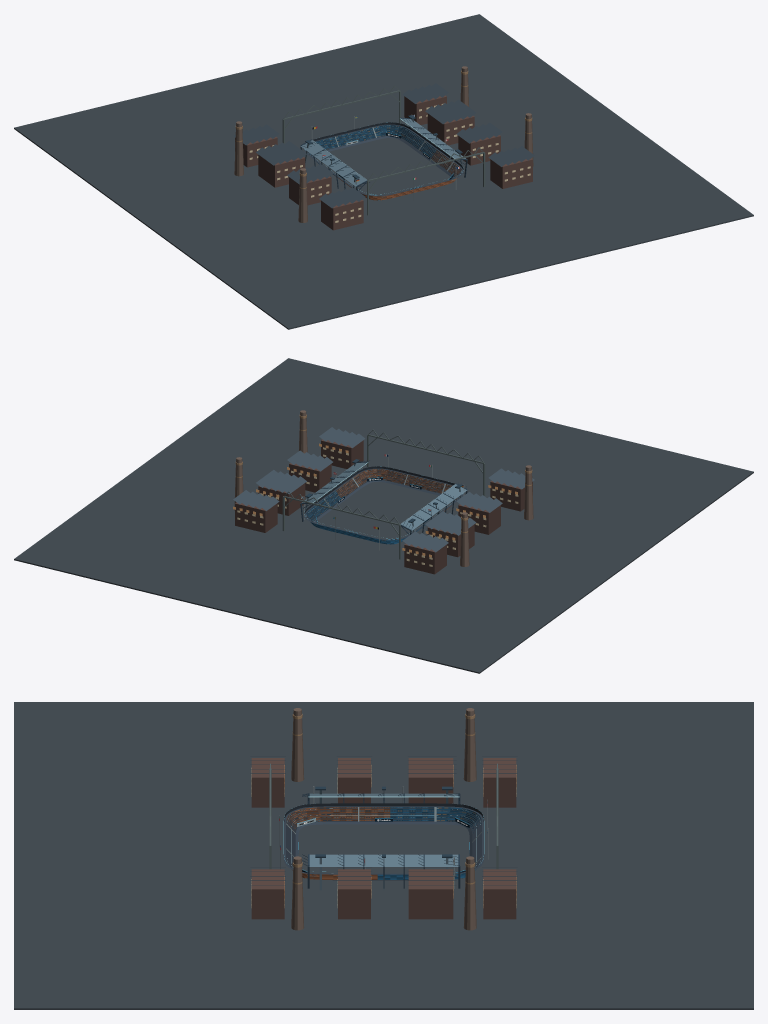
File: foundry-v2.glb
3 renders of one model, top to bottom at view 1: azimuth 30°, elevation 25°; view 2: azimuth 150°, elevation 25°; view 3: azimuth 270°, elevation 25°, orthographic. The views are drawn at different scales.
Parts seen in each view (by area): view 1: Arena architecture / foundry, Arena lettering and light ribbons / foundry; view 2: Arena architecture / foundry, Arena lettering and light ribbons / foundry; view 3: Arena architecture / foundry, Arena lettering and light ribbons / foundry.
Part boxes in pixels (box(x1,y1,x2,y2)): Arena architecture / foundry: box(14, 14, 753, 329); Arena lettering and light ribbons / foundry: box(249, 103, 530, 222); Arena architecture / foundry: box(14, 358, 753, 673); Arena lettering and light ribbons / foundry: box(233, 443, 518, 566); Arena architecture / foundry: box(14, 702, 753, 1009); Arena lettering and light ribbons / foundry: box(251, 765, 516, 907).
Size of the model in its own units: 61300 by 6810 by 62600.
4 materials, 2 textured.
